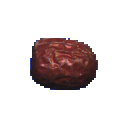gd: (22, 18, 102, 121)
